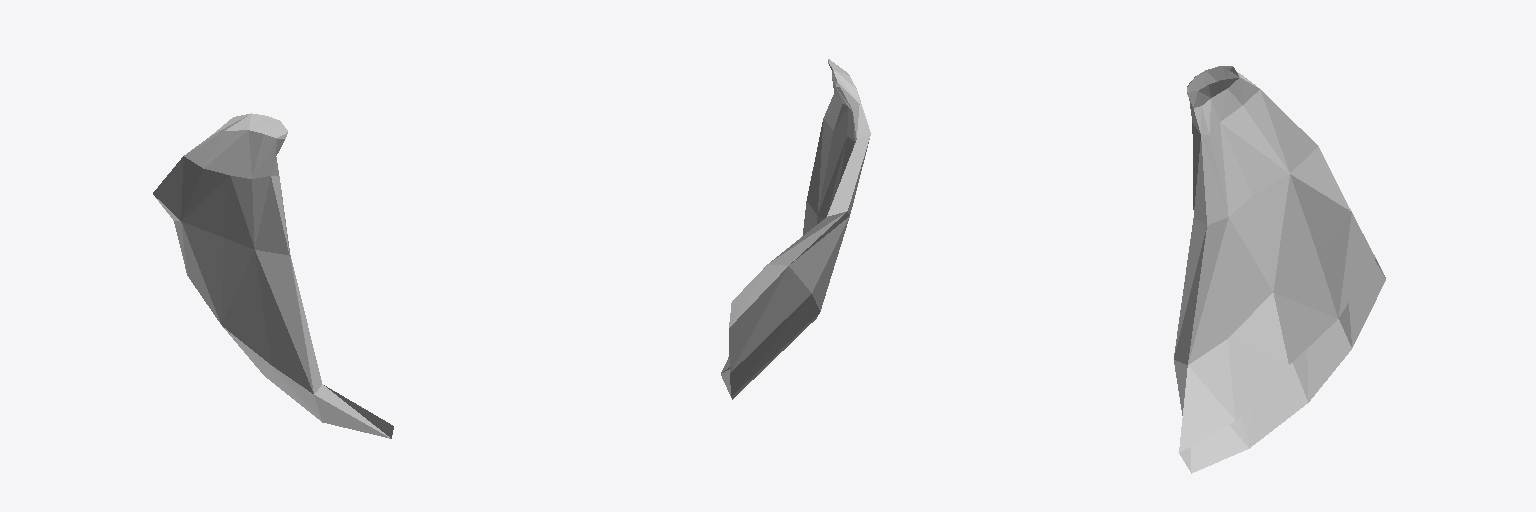
Rendered from Depressor_Anguli_Oris_Muscle_Right.obj.
3 views of the same model, side by side, from view 1: azimuth 30°, elevation 25°; view 2: azimuth 150°, elevation 25°; view 3: azimuth 270°, elevation 25° (orthographic).
Visible parts, largest first — view 1: Depressor_Anguli_Oris_Muscle_Right_Mesh group1; view 2: Depressor_Anguli_Oris_Muscle_Right_Mesh group1; view 3: Depressor_Anguli_Oris_Muscle_Right_Mesh group1.
Boxes of the visible parts, box(x1,y1,x2,y2) form: Depressor_Anguli_Oris_Muscle_Right_Mesh group1: box(153, 113, 393, 438); Depressor_Anguli_Oris_Muscle_Right_Mesh group1: box(721, 59, 870, 399); Depressor_Anguli_Oris_Muscle_Right_Mesh group1: box(1174, 66, 1385, 473).
Size of the model in its own units: 0.3023 by 0.5456 by 0.3042.